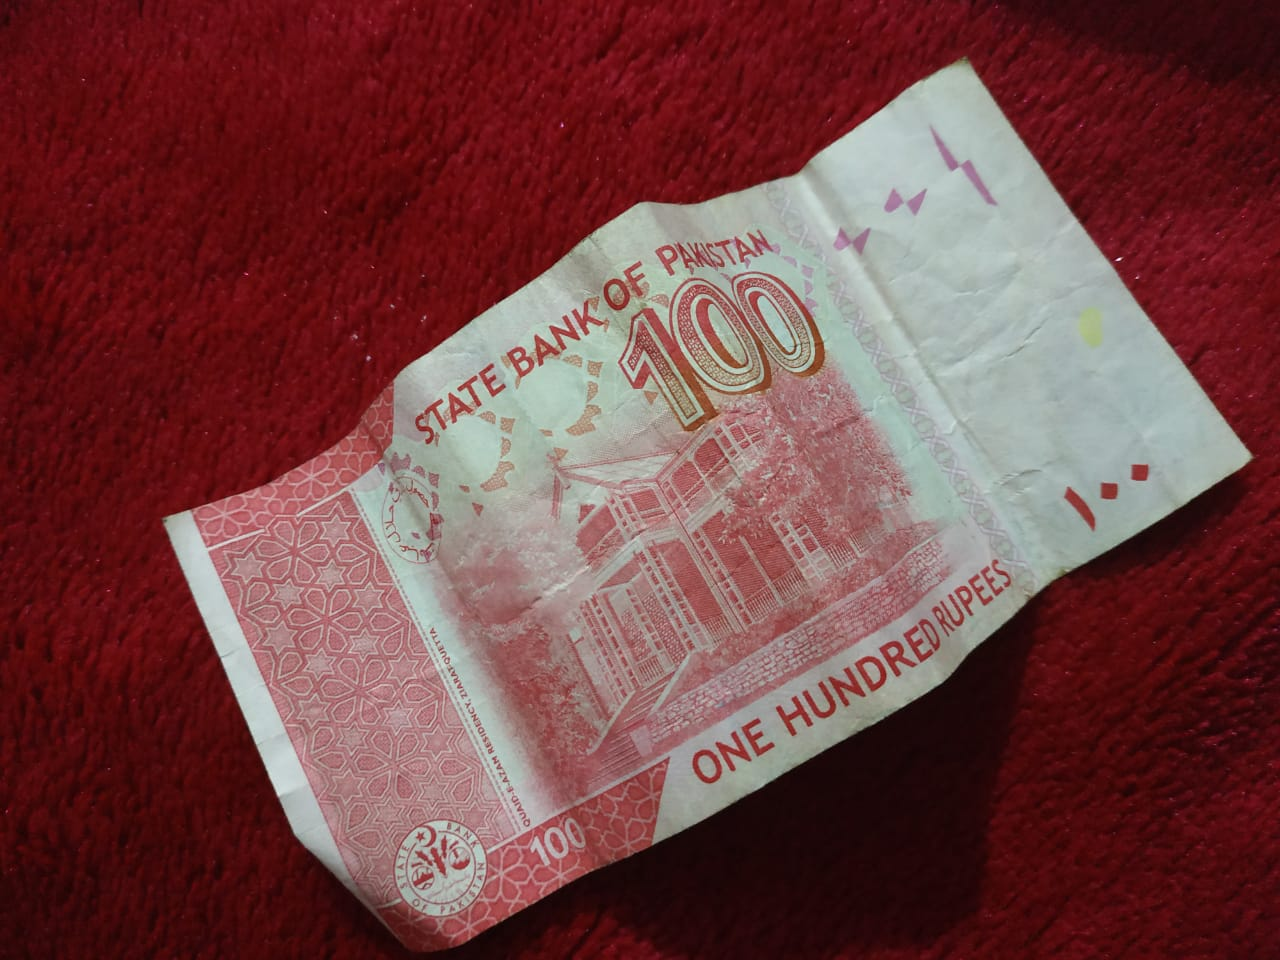100 rupee: (101, 61, 1249, 940)
